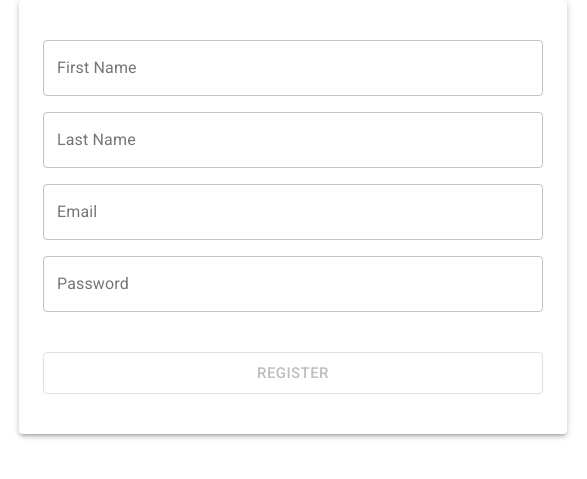
Test: RegisterForm Component › should shows a message indicating the error the email field have to the user if an invalid email is provided
In the field labelled "Email": (293, 212) [43,184,543,240], type "invalid@email"
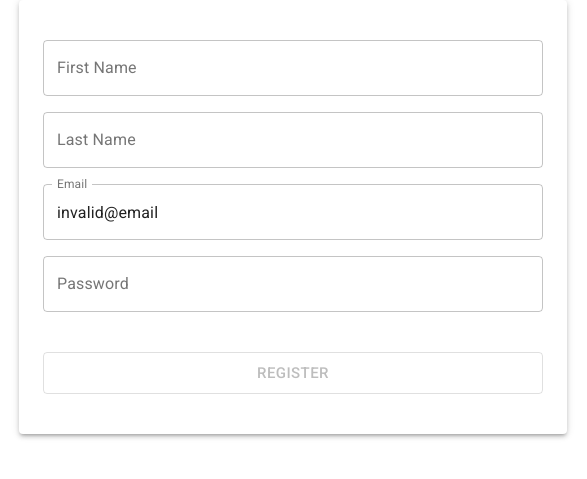
Leave the field labelled "Email", box [43,184,543,240]
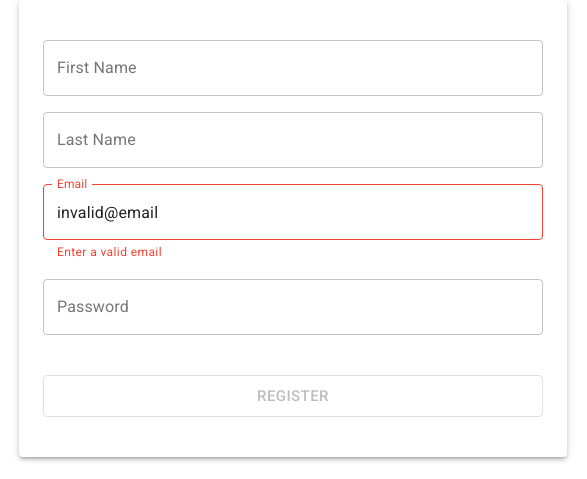
Result: the text "Enter a valid email" is shown at [57,245,162,259]
